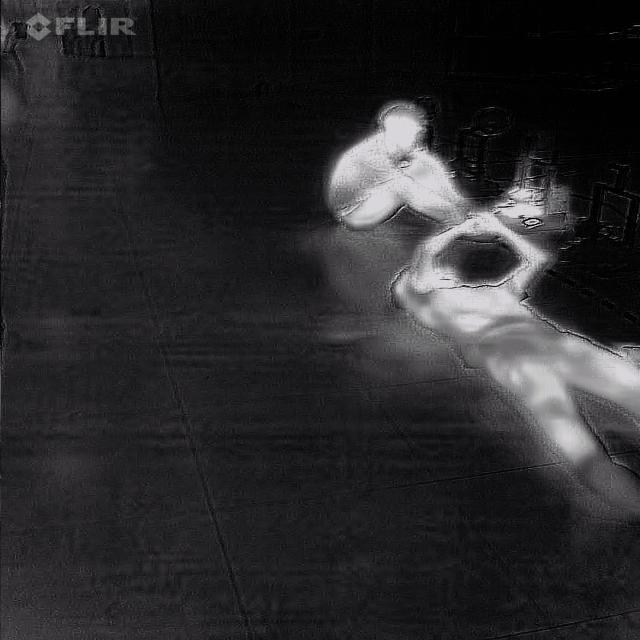Victim: (380, 193, 638, 530), (315, 94, 514, 248)
